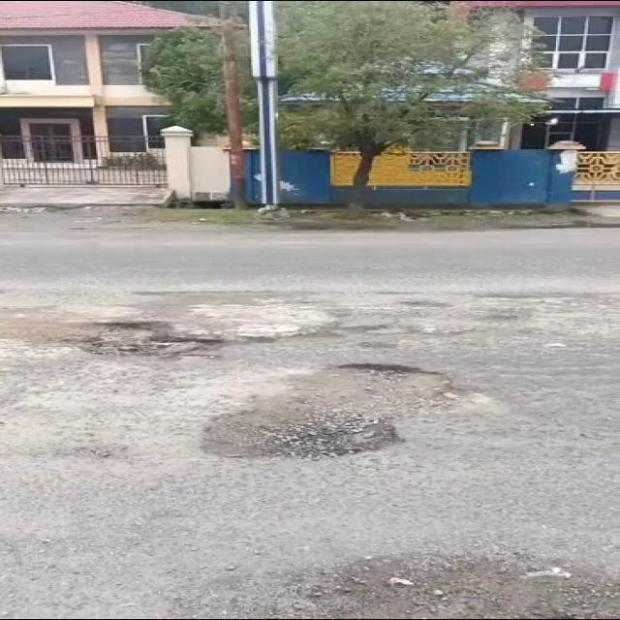lubang: (203, 365, 457, 455), (42, 322, 222, 357)
